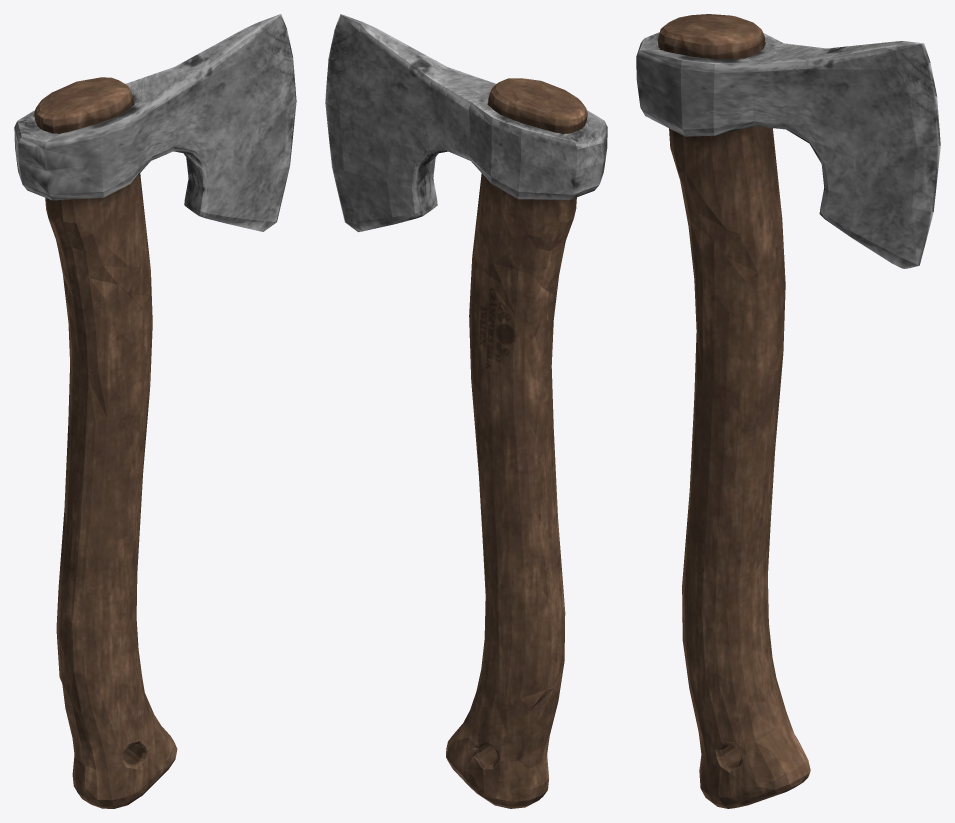
Rendered from machado.glb.
3 views of the same model, side by side, from view 1: azimuth 30°, elevation 25°; view 2: azimuth 150°, elevation 25°; view 3: azimuth 330°, elevation 25° (orthographic). The views are drawn at different scales.
Visible parts, largest first — view 1: machado; view 2: machado; view 3: machado.
Boxes of the visible parts, x1=… form: machado: x1=14, y1=14, x2=296, y2=808; machado: x1=325, y1=14, x2=607, y2=808; machado: x1=636, y1=14, x2=940, y2=808.
Size of the model in its own units: 0.2426 by 0.62 by 0.0695.
Materials: 1 (1 with a texture image).
